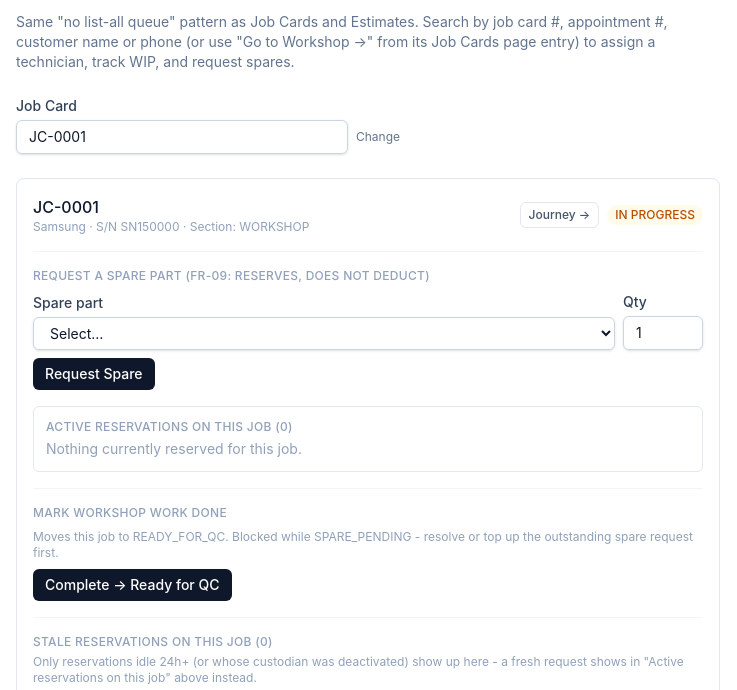
Test: WorkshopPage - a just-requested spare renders exactly once, not duplicated (2026-09-16 fix) › shows the new reservation only in "Active reservations on this job", never as a second echoed card with its own buttons
Select "SP-001 — Compressor" in the dropdown labelled "Spare part" at (324, 334), box [33,317,615,350]
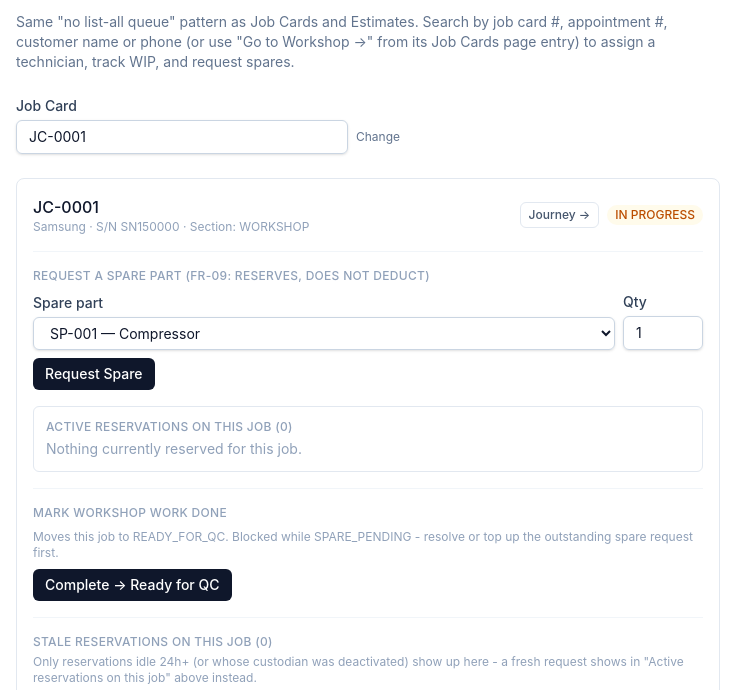
Click the button "Request Spare".
click(94, 374)  # box [33,358,155,390]
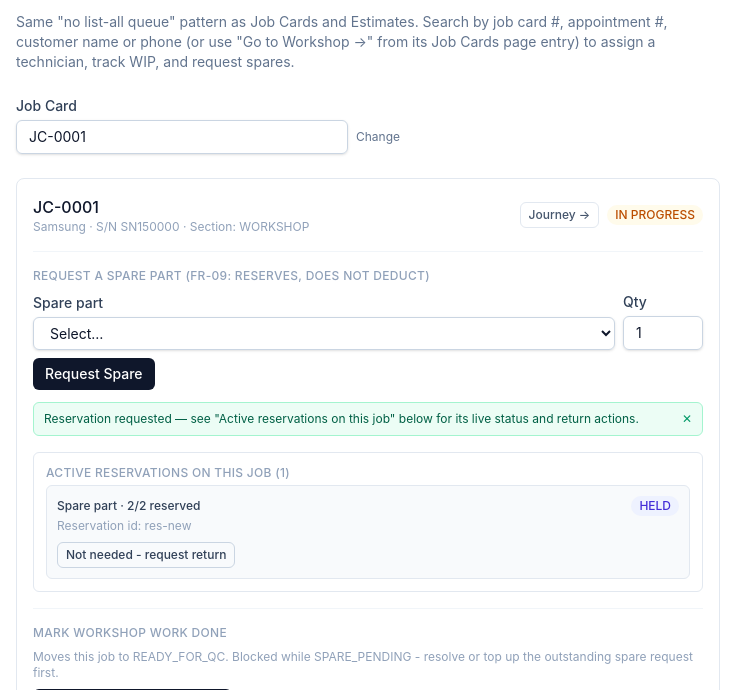
Expected: the text "Active reservations on this job (1)" is shown, [46,465,290,480]
Expected: the text "Reservation id: res-new" is shown once, [57,518,192,533]
Expected: the number of buttons "Not needed - request return" is 1, [57,542,235,568]
Click the button named "Dismiss".
click(687, 419)  # box [682,411,692,427]
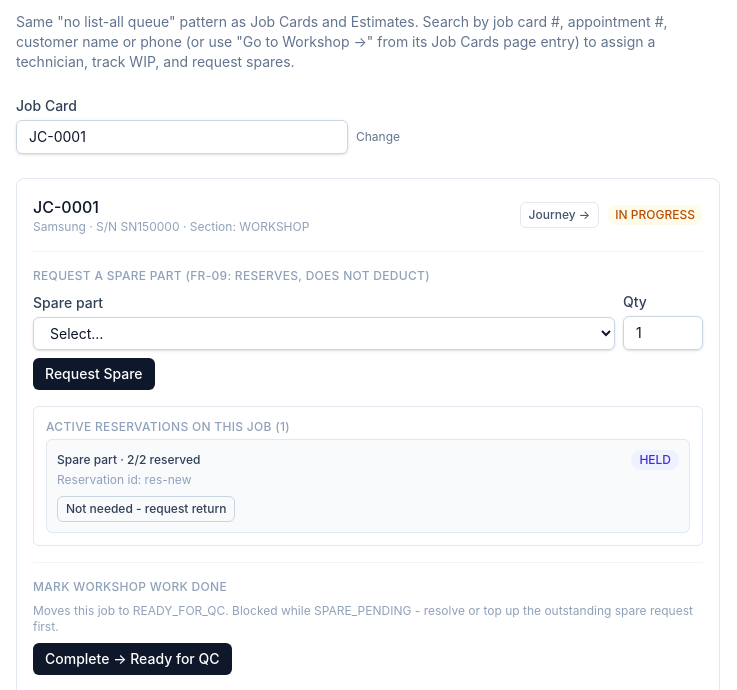
Expected: the text "Reservation requested" is gone
